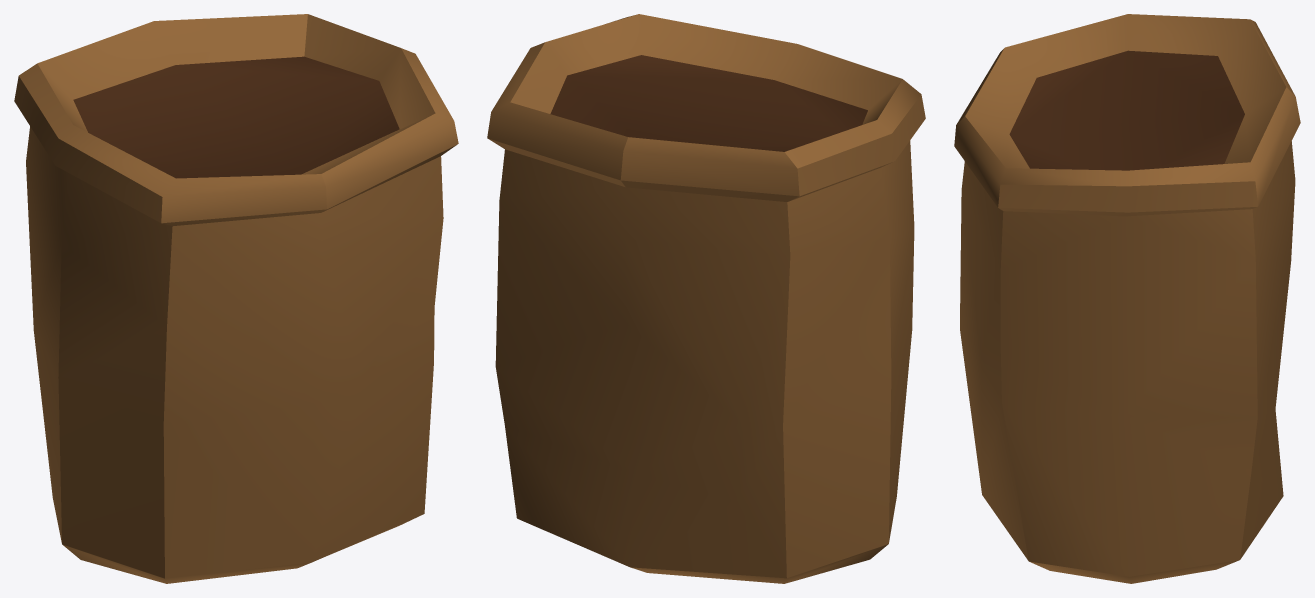
Rendered from Bag_02.glb.
3 renders of one model, left to right at view 1: azimuth 30°, elevation 25°; view 2: azimuth 150°, elevation 25°; view 3: azimuth 270°, elevation 25°, orthographic. The views are drawn at different scales.
Visible parts, largest first — view 1: Bag_02_LOD0; view 2: Bag_02_LOD0; view 3: Bag_02_LOD0.
Boxes of the visible parts, x1,y1,x2,y2 form: Bag_02_LOD0: (14,14,458,583); Bag_02_LOD0: (487,14,925,583); Bag_02_LOD0: (954,14,1300,583).
Size of what is drawn, in the model's own units: 0.5604 by 0.6625 by 0.4827.
1 material, 1 textured.
